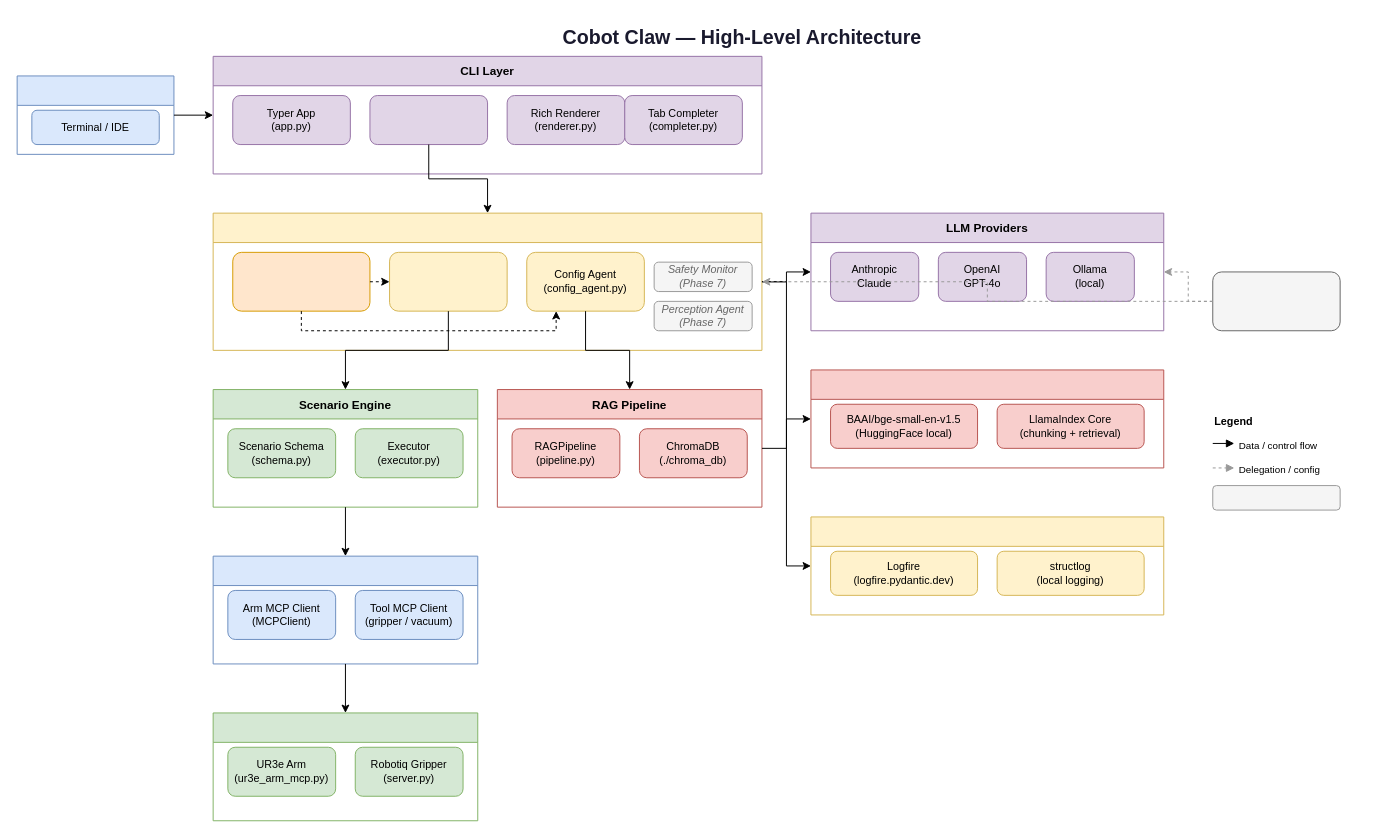
This 1392x838 diagram has some shape labels left out. Here are the shapes that lost their labels. From the top down, the box of each, then its label:
(16, 75, 174, 154): User
(369, 95, 488, 145): Interactive REPL (repl.py)
(232, 251, 370, 311): Orchestrator Agent (orchestrator.py)
(389, 251, 507, 311): Scenario Agent (scenario.py)
(212, 212, 762, 350): Agent Layer (PydanticAI)
(1212, 271, 1340, 331): cobot.yaml (CobotConfig)
(810, 369, 1164, 468): Embedding
(1212, 485, 1340, 510): Future phase
(810, 516, 1164, 615): Observability
(212, 555, 478, 664): MCP Clients
(212, 712, 478, 821): Hardware (MCP Servers)
